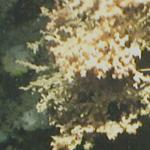alive: (3, 3, 149, 148)
